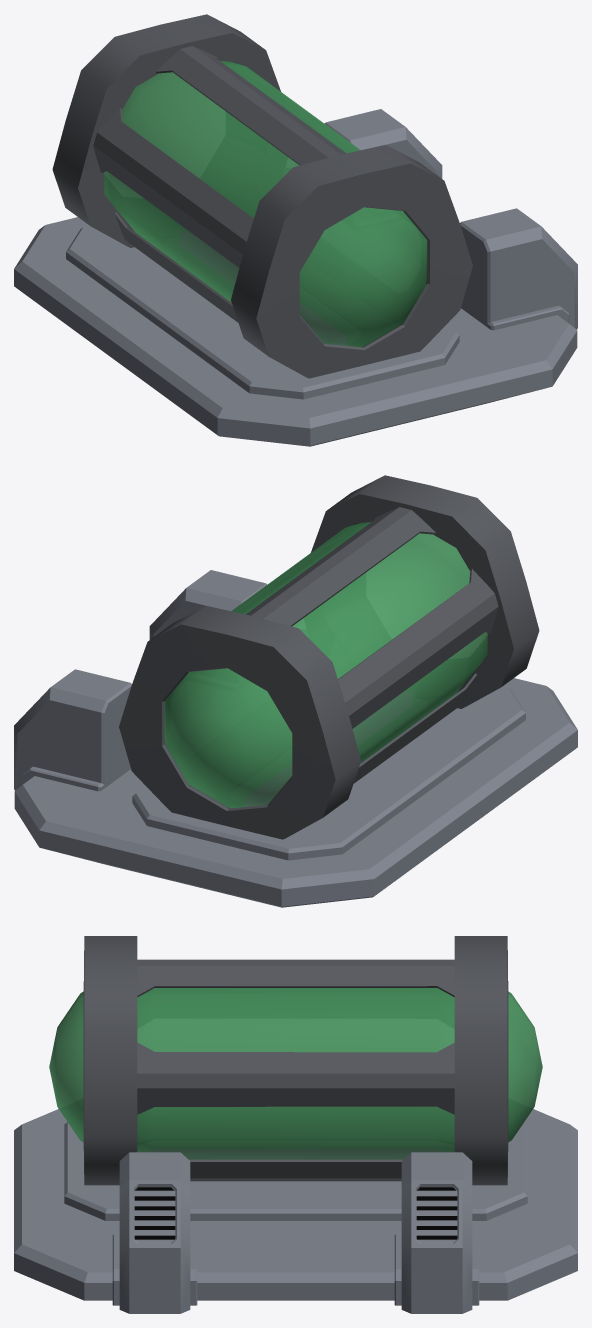
File: generator.fbx
3 views of the same model, one above another, from view 1: azimuth 30°, elevation 25°; view 2: azimuth 150°, elevation 25°; view 3: azimuth 270°, elevation 25° (orthographic). The views are drawn at different scales.
Visible parts, largest first — view 1: Generator_Floor, Outer_Rings, Generator_Capsule, Cross_Beams, Generator_Intake, Generator_Intake1; view 2: Generator_Floor, Outer_Rings, Generator_Capsule, Cross_Beams, Generator_Intake1, Generator_Intake; view 3: Generator_Floor, Generator_Capsule, Cross_Beams, Outer_Rings, Generator_Intake, Generator_Intake1.
Boxes of the visible parts, x1=… form: Generator_Floor: x1=14, y1=217, x2=577, y2=446; Outer_Rings: x1=52, y1=14, x2=472, y2=378; Generator_Capsule: x1=104, y1=61, x2=427, y2=347; Cross_Beams: x1=93, y1=46, x2=346, y2=322; Generator_Intake: x1=460, y1=208, x2=577, y2=330; Generator_Intake1: x1=324, y1=109, x2=442, y2=178; Generator_Floor: x1=14, y1=678, x2=577, y2=907; Outer_Rings: x1=119, y1=475, x2=539, y2=839; Generator_Capsule: x1=164, y1=522, x2=487, y2=808; Cross_Beams: x1=246, y1=507, x2=498, y2=783; Generator_Intake1: x1=14, y1=669, x2=131, y2=791; Generator_Intake: x1=149, y1=570, x2=267, y2=639; Generator_Floor: x1=14, y1=1109, x2=577, y2=1300; Generator_Capsule: x1=49, y1=988, x2=542, y2=1159; Cross_Beams: x1=137, y1=959, x2=454, y2=1181; Outer_Rings: x1=83, y1=936, x2=508, y2=1185; Generator_Intake: x1=112, y1=1152, x2=197, y2=1313; Generator_Intake1: x1=394, y1=1152, x2=479, y2=1313.
Size of the model in its own units: 13 by 7.4 by 16.
